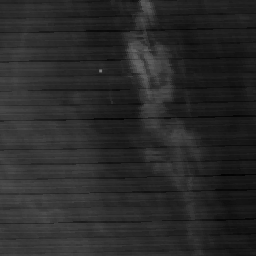Target: (97, 67, 103, 73)
